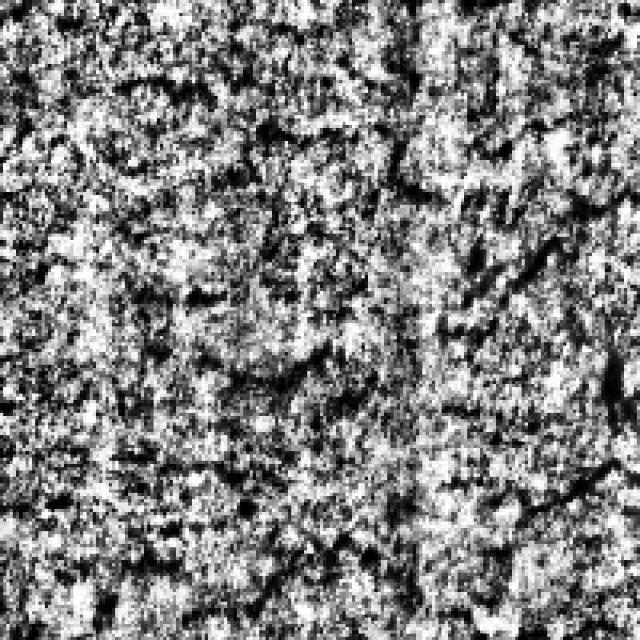Pitted_Surface: (128, 73, 560, 384), (38, 451, 637, 634)
